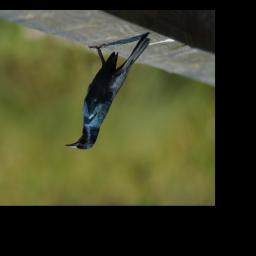Crow: (65, 33, 153, 151)
